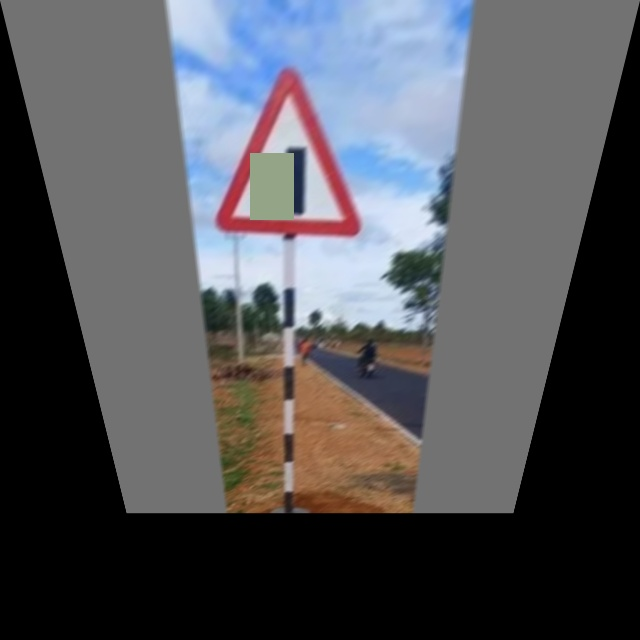Side_Road_Left: (206, 65, 367, 241)
